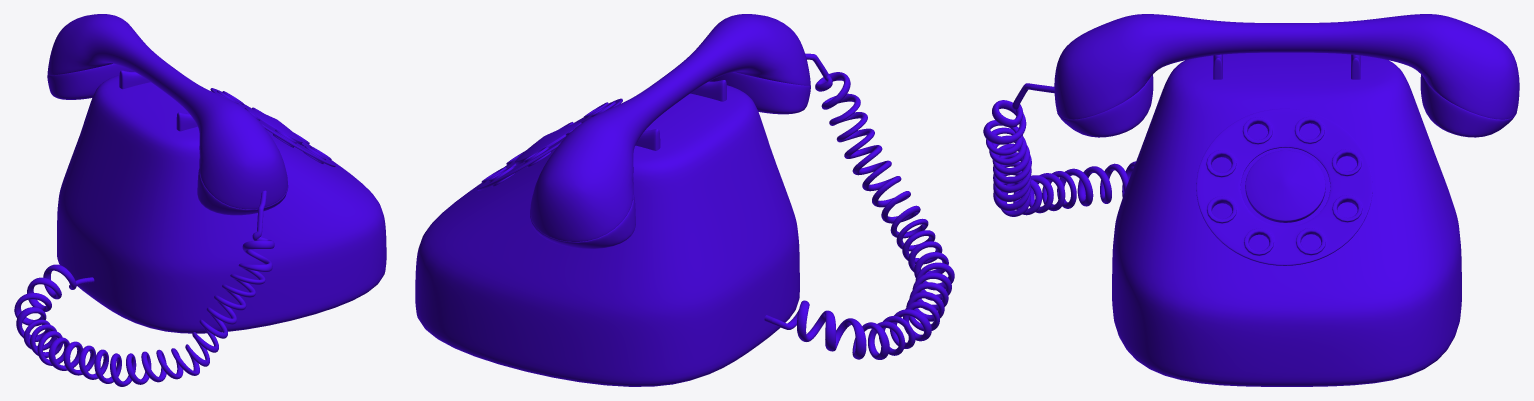
The model's file is Telefono.fbx.
The picture shows the model from 3 angles, left to right: view 1: azimuth 30°, elevation 25°; view 2: azimuth 150°, elevation 25°; view 3: azimuth 270°, elevation 25°; orthographic projection. The views are drawn at different scales.
Visible parts, largest first — view 1: Cuerpo, Telefono1, Cable, Ruleta; view 2: Cuerpo, Telefono1, Cable, Ruleta; view 3: Cuerpo, Telefono1, Ruleta, Cable.
Part boxes in pixels (x1,y1,x2,y2): Cuerpo: [57, 70, 386, 333]; Telefono1: [47, 14, 288, 215]; Cable: [14, 190, 274, 386]; Ruleta: [210, 88, 335, 167]; Cuerpo: [415, 80, 799, 386]; Telefono1: [530, 14, 810, 248]; Cable: [764, 53, 954, 359]; Ruleta: [477, 98, 622, 190]; Cuerpo: [1112, 52, 1461, 386]; Telefono1: [1054, 14, 1519, 137]; Ruleta: [1196, 108, 1372, 265]; Cable: [983, 83, 1135, 216].
Size of the model in its own units: 274 by 164 by 291.
